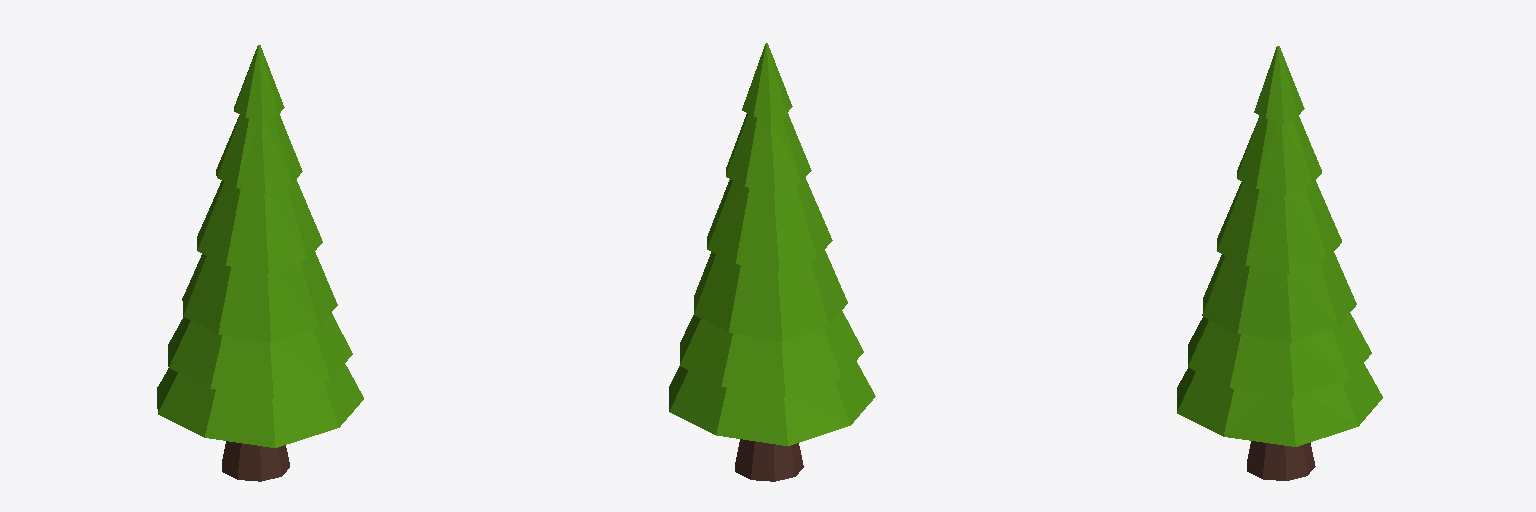
Rendered from lowpolytree.obj.
3 views of the same model, side by side, from view 1: azimuth 30°, elevation 25°; view 2: azimuth 150°, elevation 25°; view 3: azimuth 270°, elevation 25° (orthographic).
Visible parts, largest first — view 1: Cylinder.001; view 2: Cylinder.001; view 3: Cylinder.001.
Part boxes in pixels (left/top/right/bottom): Cylinder.001: left=157, top=45, right=363, bottom=481; Cylinder.001: left=669, top=43, right=875, bottom=481; Cylinder.001: left=1177, top=46, right=1382, bottom=480.
Bounding box in the file's own units: 2.31 × 5.12 × 2.28.